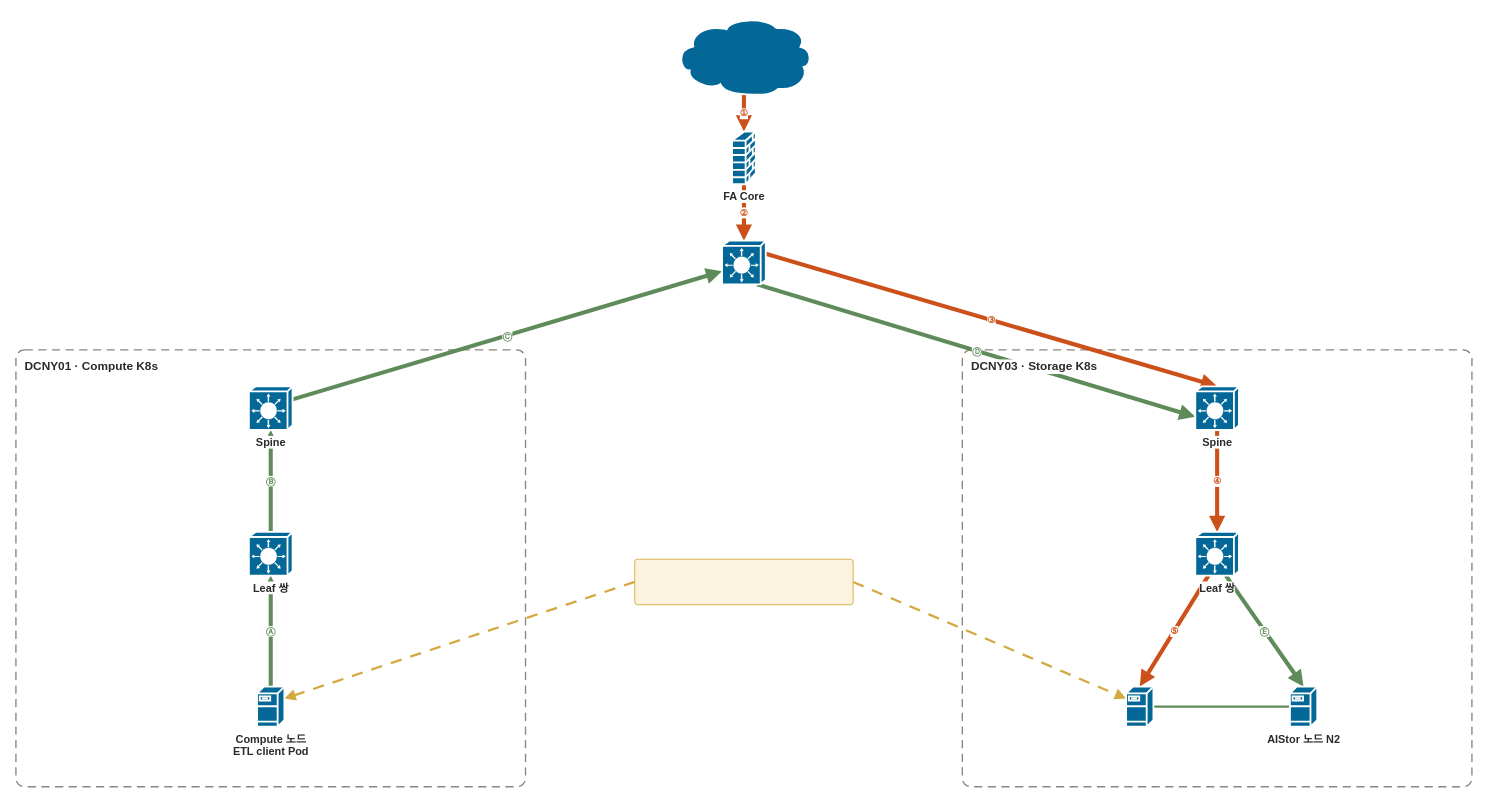
Some shapes in this 1489 by 803 pixel diagram are drawn without their labels. The centre of each missing label's shape, as x and y in pixels:
"AIStor 노드 N1" belongs at point 1139,706.
"ClusterMesh" belongs at point 743,581.
"Super Spine (Border)" belongs at point 743,262.
"외부 client" belongs at point 743,55.
